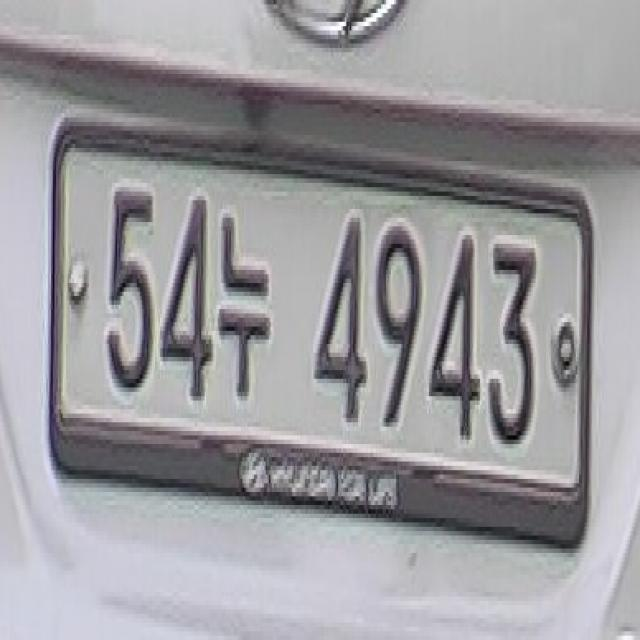3: (480, 209, 554, 475)
4: (305, 178, 371, 440), (430, 196, 485, 470), (157, 161, 214, 409)
5: (89, 157, 155, 400)
9: (370, 192, 426, 444)
license_plate: (39, 109, 590, 566)
nu: (216, 214, 279, 400)
